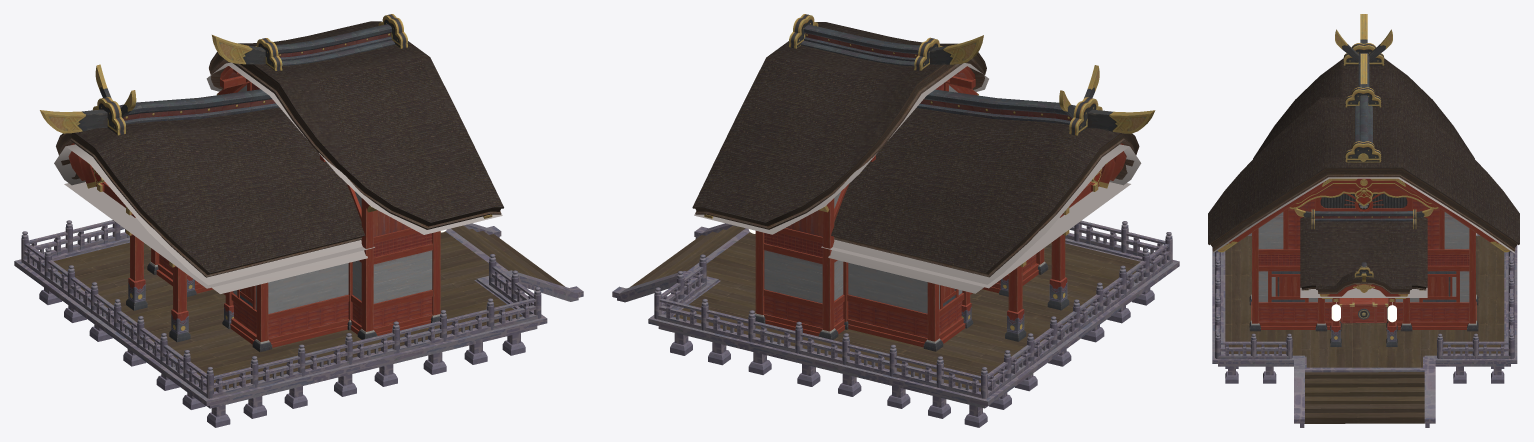
File: Homeworld_Exterior_Dq_Build_House_35_Lod0.fbx
The picture shows the model from 3 angles, left to right: view 1: azimuth 30°, elevation 25°; view 2: azimuth 150°, elevation 25°; view 3: azimuth 270°, elevation 25°; orthographic projection. The views are drawn at different scales.
Visible parts, largest first — view 1: Area_Dq_Build_MS_ShenShe_02_Lod0, Homeworld_Exterior_Dq_Build_House_35_A_Lod0, Area_Dq_Build_MS_ShenShe_02_Ocl; view 2: Area_Dq_Build_MS_ShenShe_02_Lod0, Homeworld_Exterior_Dq_Build_House_35_A_Lod0, Area_Dq_Build_MS_ShenShe_02_Ocl; view 3: Area_Dq_Build_MS_ShenShe_02_Lod0, Homeworld_Exterior_Dq_Build_House_35_A_Lod0, Area_Dq_Build_MS_ShenShe_02_Ocl, Area_Dq_Prop_MS_Fengnabox_02_Vo.
Boxes of the visible parts, x1,y1,x2,y2 form: Area_Dq_Build_MS_ShenShe_02_Lod0: [40, 14, 503, 351]; Homeworld_Exterior_Dq_Build_House_35_A_Lod0: [14, 220, 583, 427]; Area_Dq_Build_MS_ShenShe_02_Ocl: [54, 62, 502, 293]; Area_Dq_Build_MS_ShenShe_02_Lod0: [692, 14, 1155, 351]; Homeworld_Exterior_Dq_Build_House_35_A_Lod0: [612, 220, 1179, 427]; Area_Dq_Build_MS_ShenShe_02_Ocl: [694, 63, 1141, 293]; Area_Dq_Build_MS_ShenShe_02_Lod0: [1208, 14, 1519, 346]; Homeworld_Exterior_Dq_Build_House_35_A_Lod0: [1212, 234, 1517, 427]; Area_Dq_Build_MS_ShenShe_02_Ocl: [1213, 177, 1514, 297]; Area_Dq_Prop_MS_Fengnabox_02_Vo: [1339, 298, 1388, 323].
Size of what is drawn, in the model's own units: 22.78 by 13.73 by 15.61.
